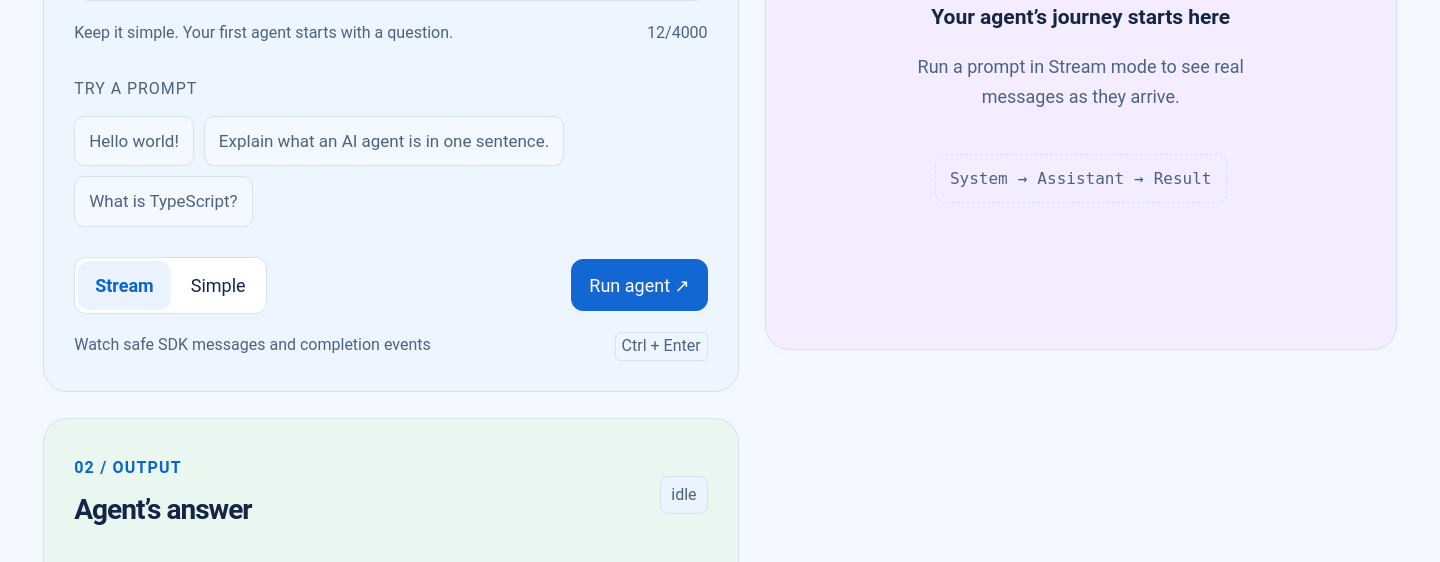
Test: React agent playground › cancels the underlying request and prevents duplicate submissions
(page scrolled)
Click the button "Run agent ↗".
click(640, 285)  # box [571,259,708,311]
(page scrolled)
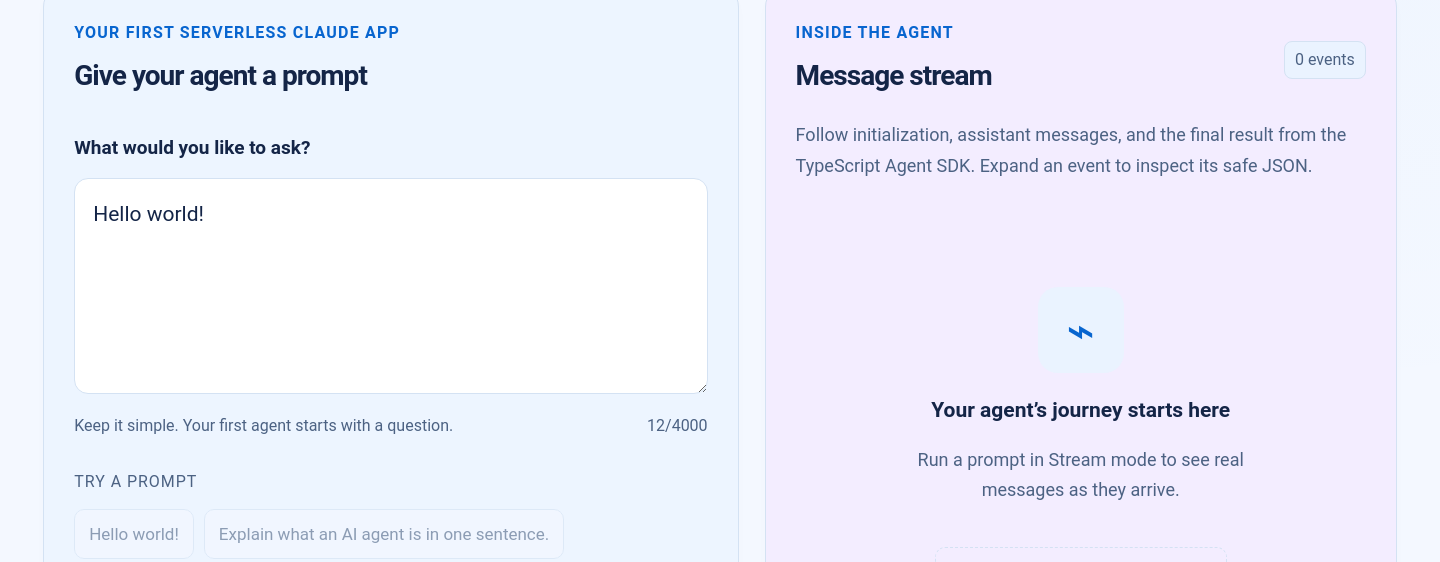
Press Enter in the text box labelled "What would you like to ask?", box [74,178,708,394]
(page scrolled)
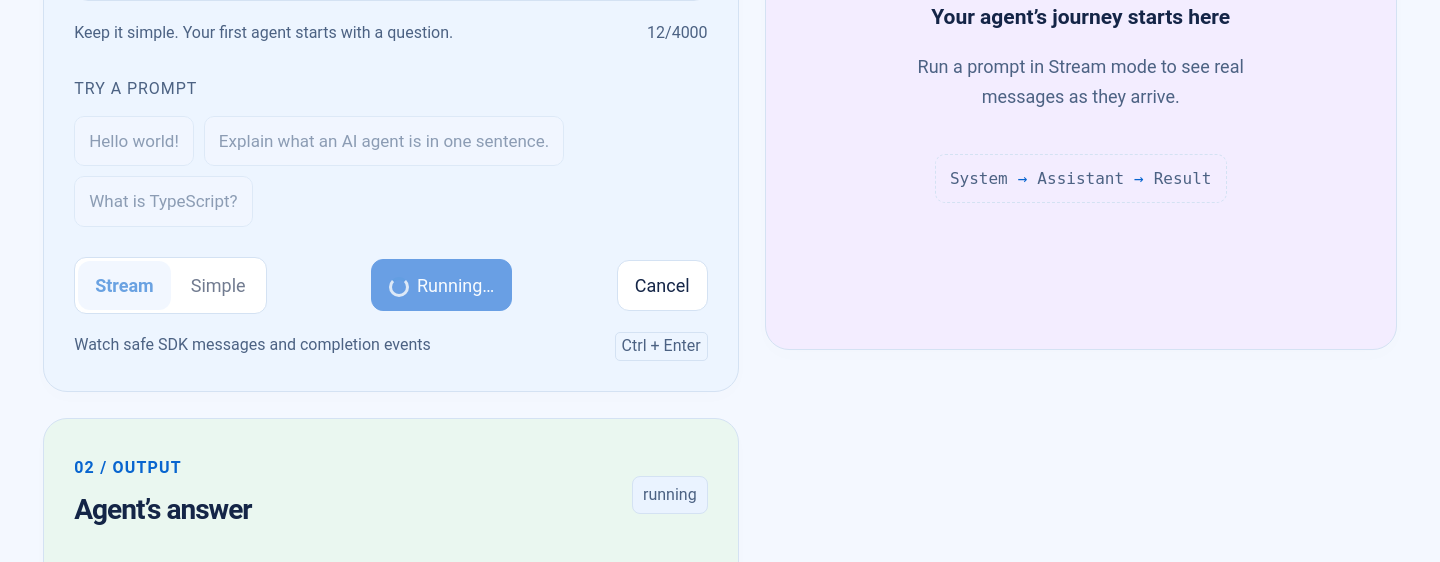
Click the button "Cancel".
click(662, 285)  # box [617,260,708,311]
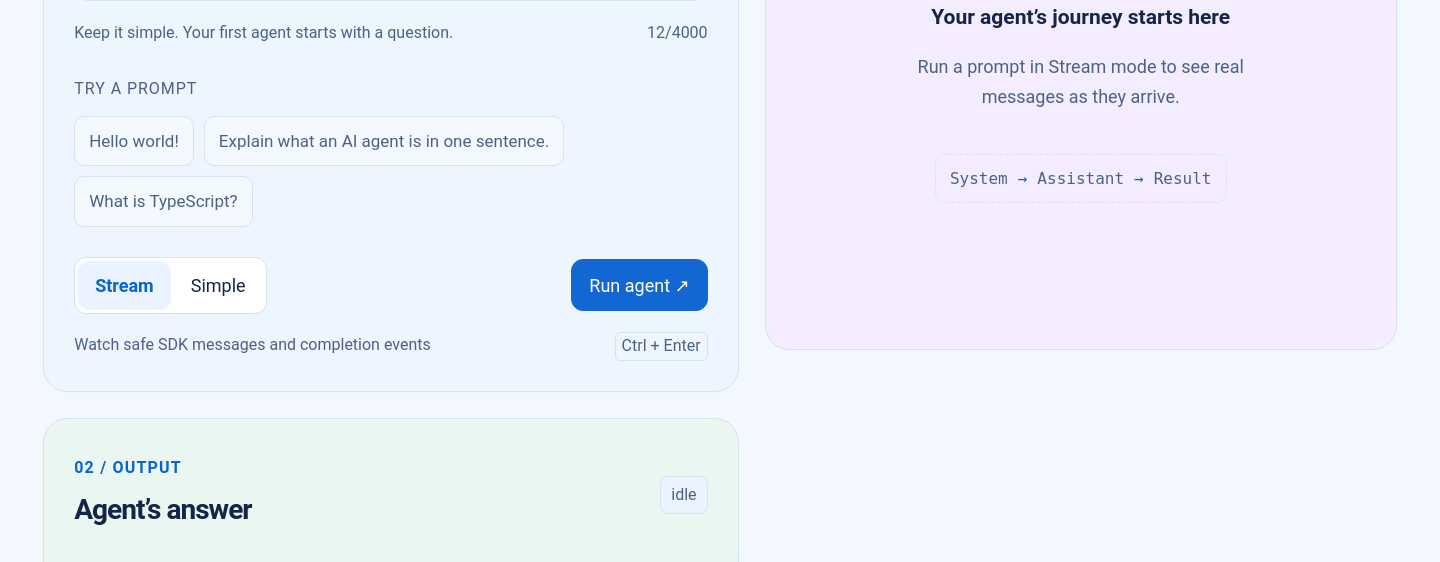
Check: the text with class "state" reads "idle", box [671,484,697,504]
